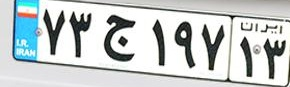character: (98, 9, 137, 64), (199, 17, 227, 74), (67, 6, 94, 60), (260, 33, 289, 82), (172, 14, 196, 71), (41, 4, 66, 58), (147, 15, 170, 68), (237, 32, 260, 80)
